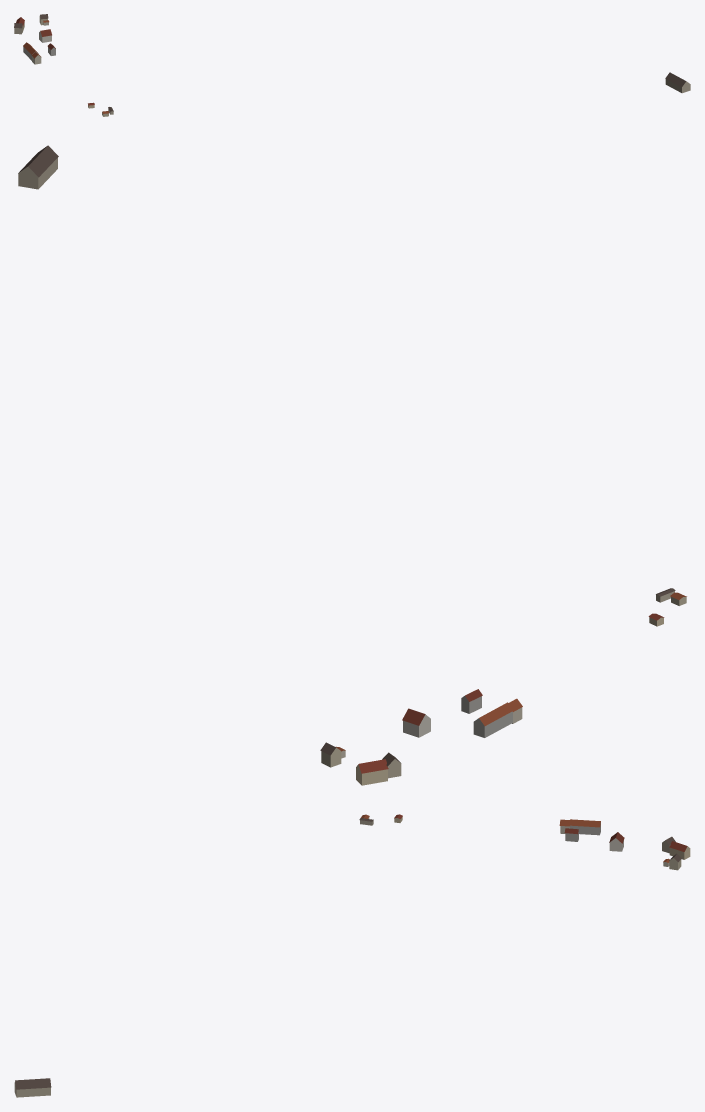
3 views of the same model, one above another, from view 1: azimuth 30°, elevation 25°; view 2: azimuth 150°, elevation 25°; view 3: azimuth 270°, elevation 25° (orthographic). The views are drawn at different scales.
Visible parts, largest first — view 1: buildings; view 2: buildings; view 3: buildings.
Part boxes in pixels (x1,y1,x2,y2): buildings: [14, 14, 690, 116]; buildings: [18, 145, 686, 785]; buildings: [14, 814, 690, 1097].
Bounding box in the file's own units: 455 × 30.29 × 442.
